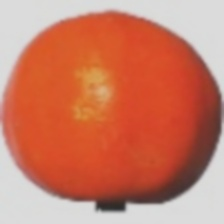tangerine: (58, 32, 210, 222)
